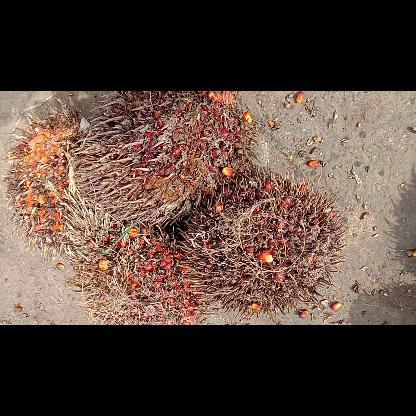Terlalu masak: (74, 90, 254, 224), (178, 172, 344, 314), (66, 192, 209, 324), (4, 96, 90, 256)
